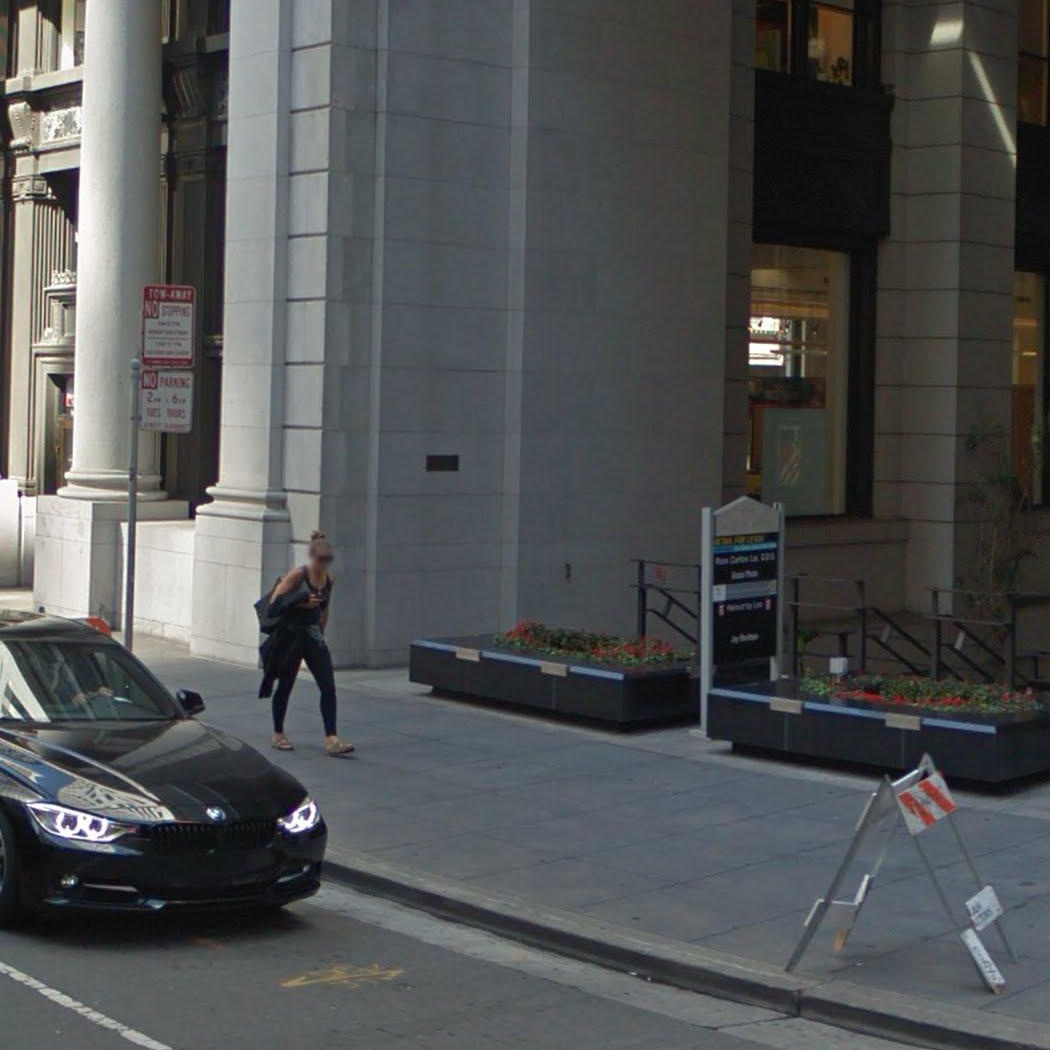No Parking: (138, 368, 194, 434)
